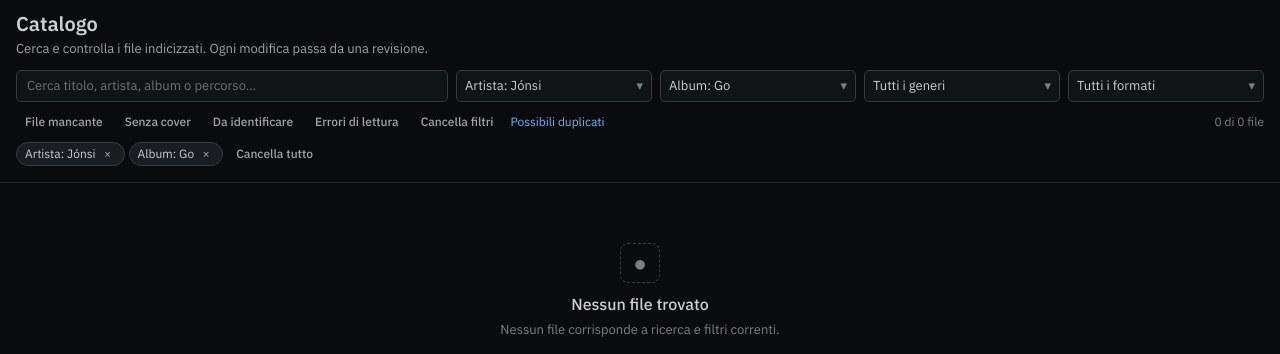
Test case: Catalog facets › counts are consistent with server filtering and no double client filtering
Expected: the button named "Rimuovi filtro Artista: Jónsi" is shown, [100,146,116,162]
Expected: the button named "Rimuovi filtro Album: Go" is shown, [198,146,214,162]
Open artist facet — should show count (1) consistent with filtered total
Click the button "Artista: Jónsi ▾". click: (554, 86)
box: [456,70,652,102]
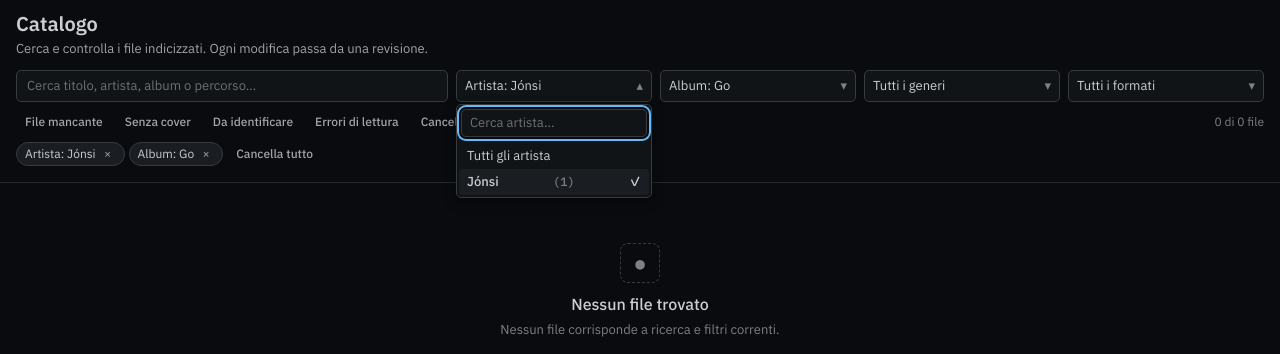
Expected: the text "Jónsi" is shown, [467,173,499,191]
Expected: the text "(1)" is shown, [553,174,575,190]
